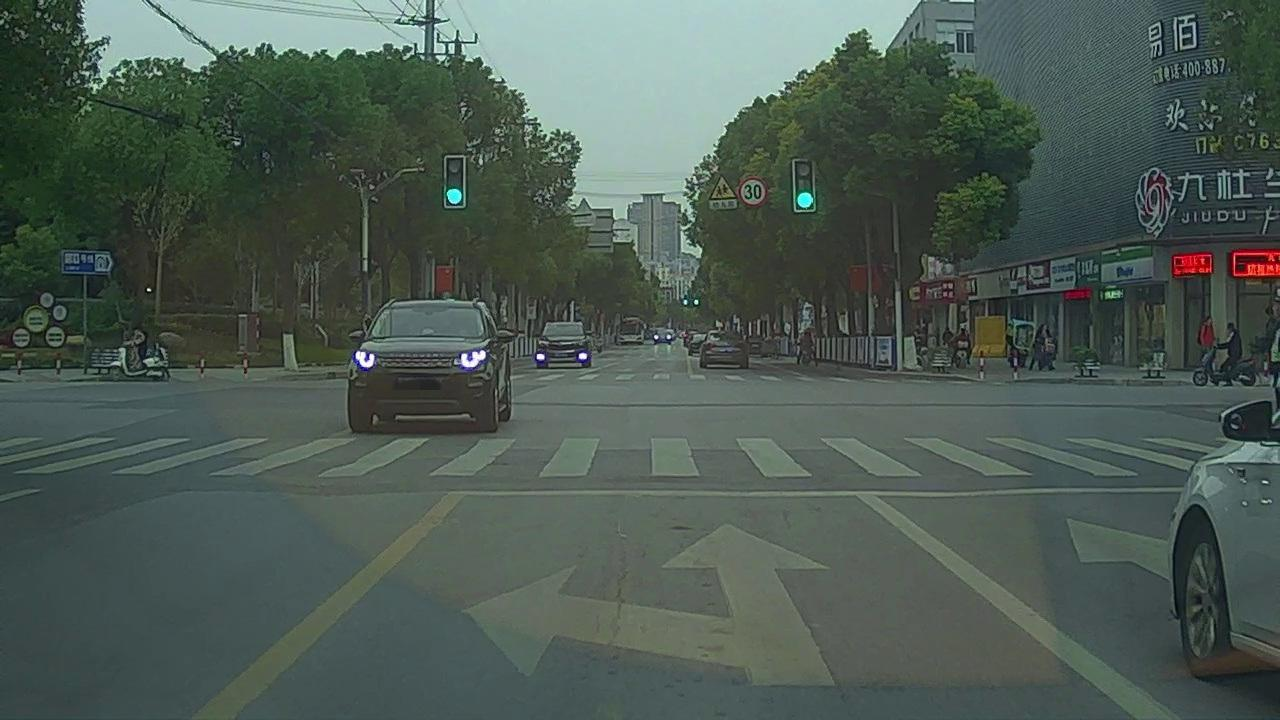traffic_light: (794, 162, 814, 211), (447, 155, 465, 205)
